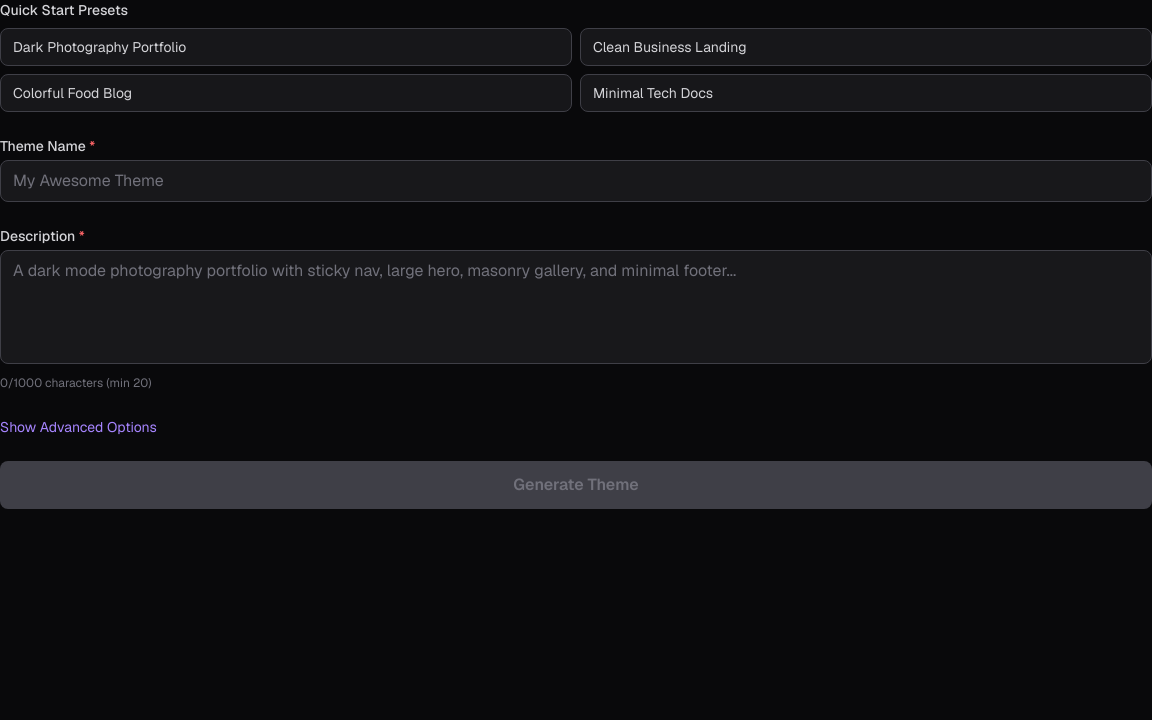
Test: ThemeForm › fills form when preset is clicked
Click the button "Dark Photography Portfolio" at (100, 47), box [0,28,572,66]
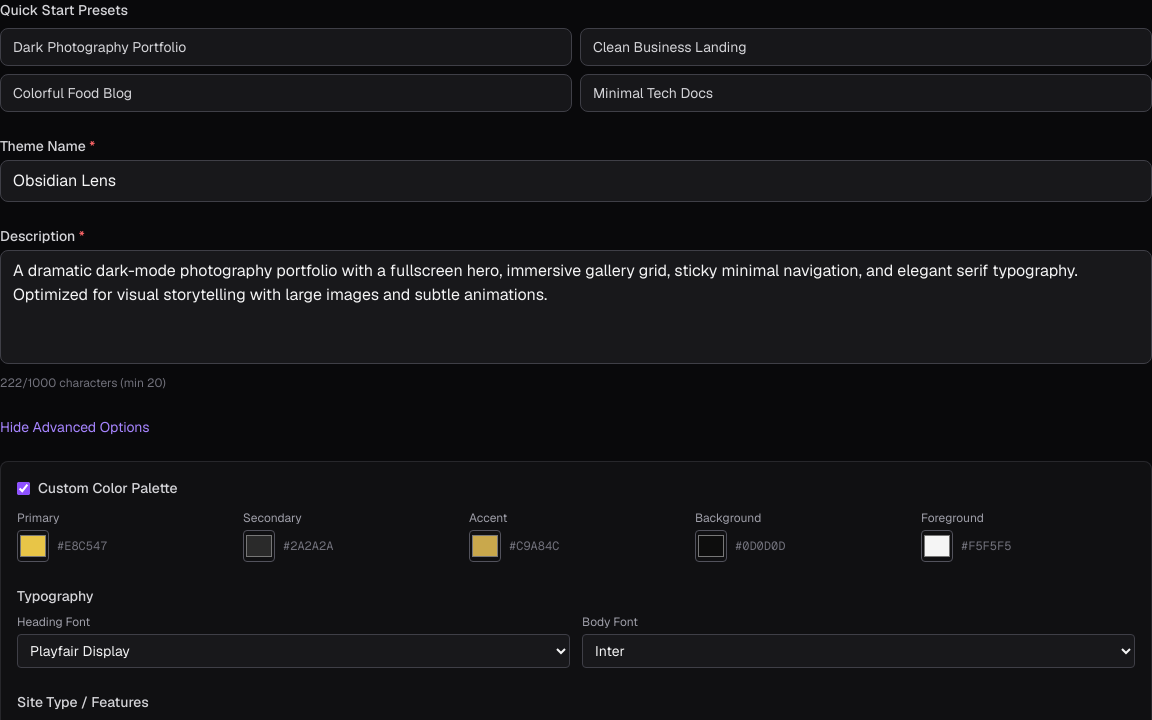
Expected: the field labelled "Theme Name *" holds "Obsidian Lens", [0,160,1151,202]
